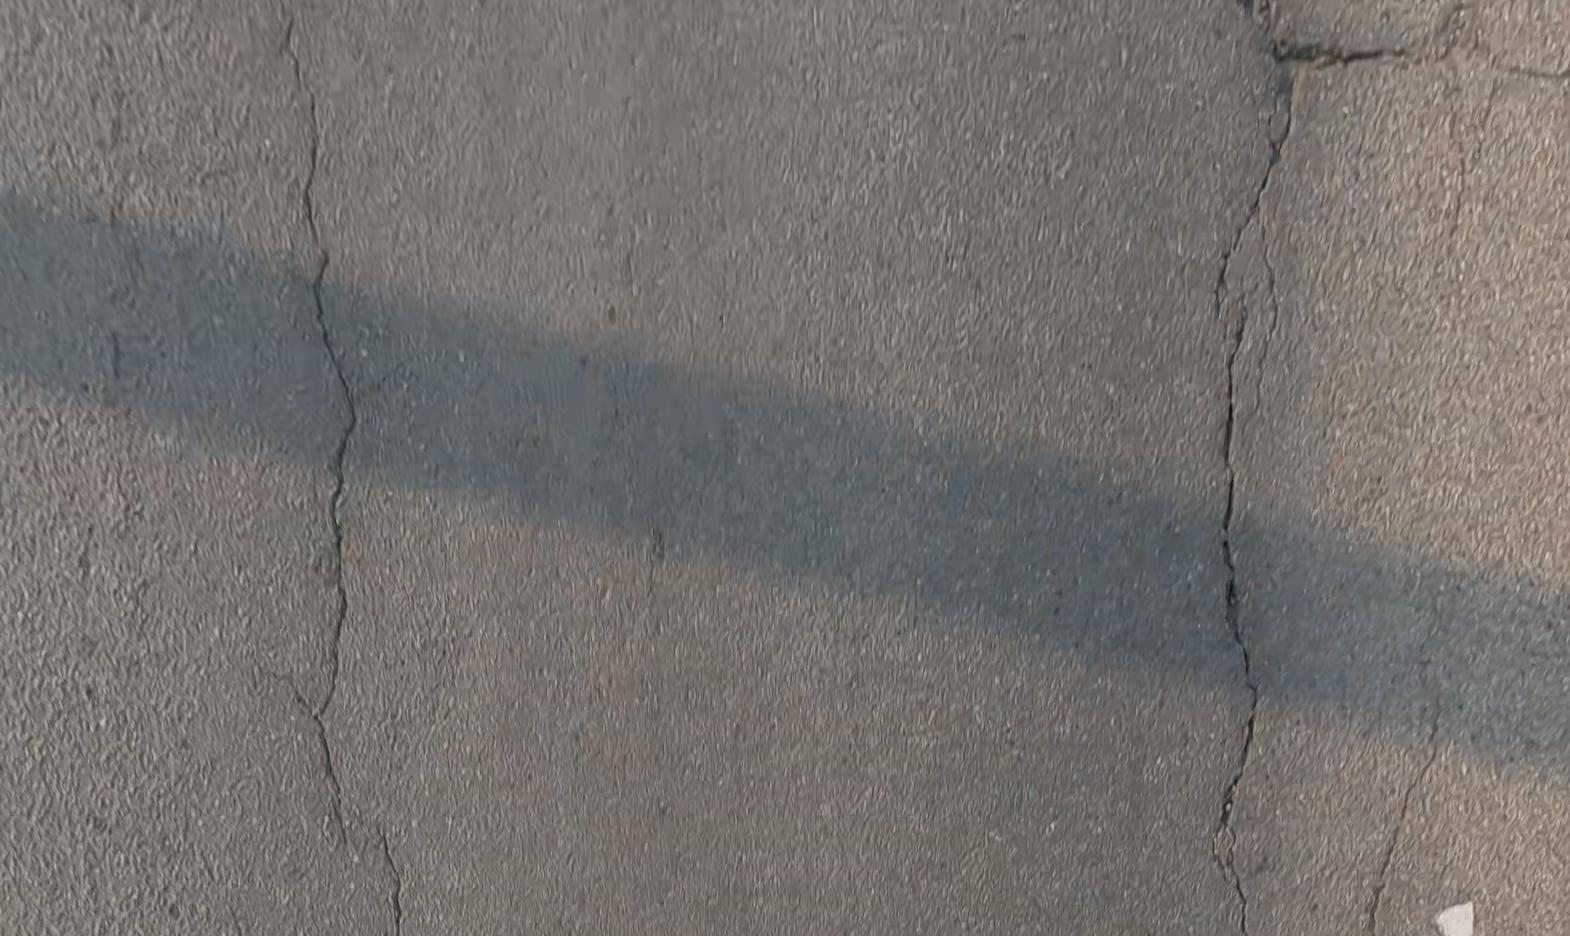pothole: (1275, 40, 1385, 90)
